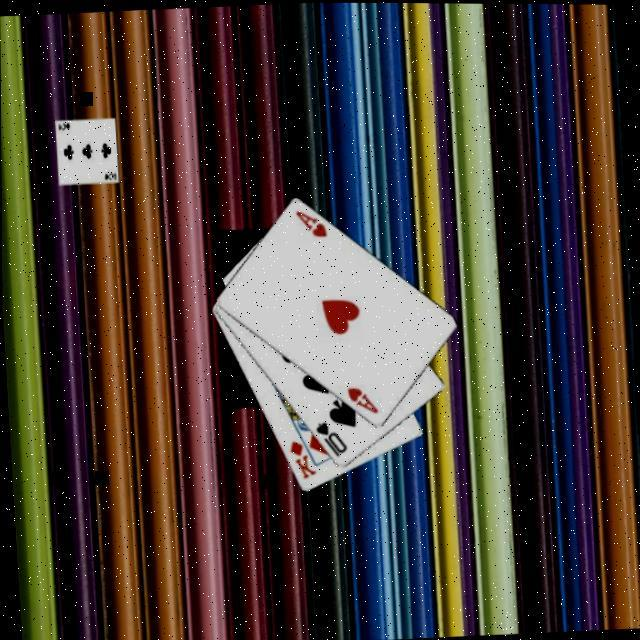10S: (309, 417, 347, 460)
AH: (341, 381, 379, 417), (290, 206, 328, 242)
KD: (284, 436, 316, 482)
